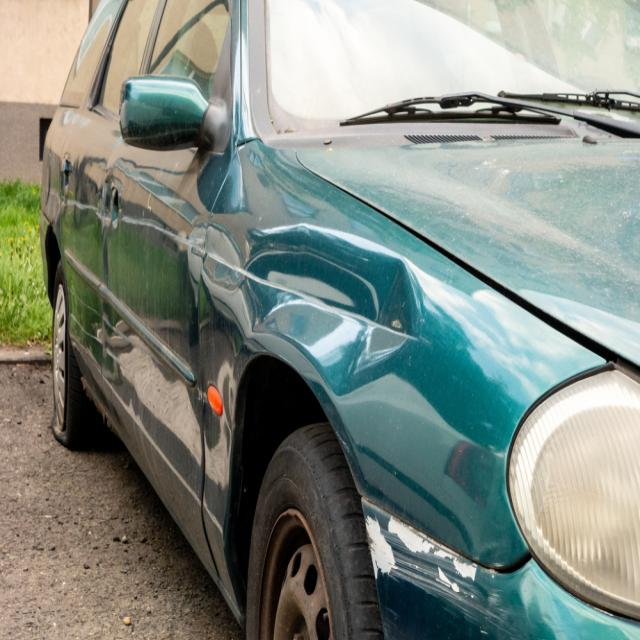dent: (205, 221, 415, 394)
scratch: (361, 498, 532, 640)
tire flat: (50, 261, 84, 448)
